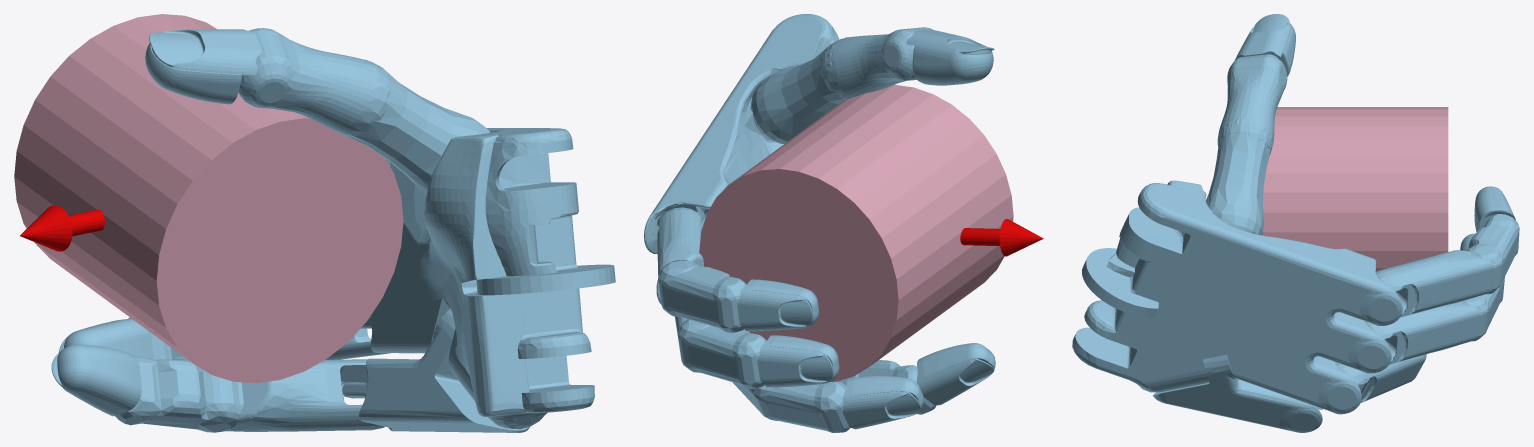
The picture shows the model from 3 angles, left to right: view 1: azimuth 30°, elevation 25°; view 2: azimuth 150°, elevation 25°; view 3: azimuth 270°, elevation 25°; orthographic projection. The views are drawn at different scales.
Visible parts, largest first — view 1: world, cylinder_medium.stl; view 2: world, cylinder_medium.stl; view 3: world, cylinder_medium.stl.
Boxes of the visible parts, box(x1,y1,x2,y2) form: world: box(20, 28, 615, 432); cylinder_medium.stl: box(14, 14, 403, 383); world: box(644, 14, 1043, 432); cylinder_medium.stl: box(699, 84, 1013, 381); world: box(1072, 14, 1519, 432); cylinder_medium.stl: box(1262, 107, 1448, 271).
Bounding box in the file's own units: 0.1478 × 0.1437 × 0.1763.
